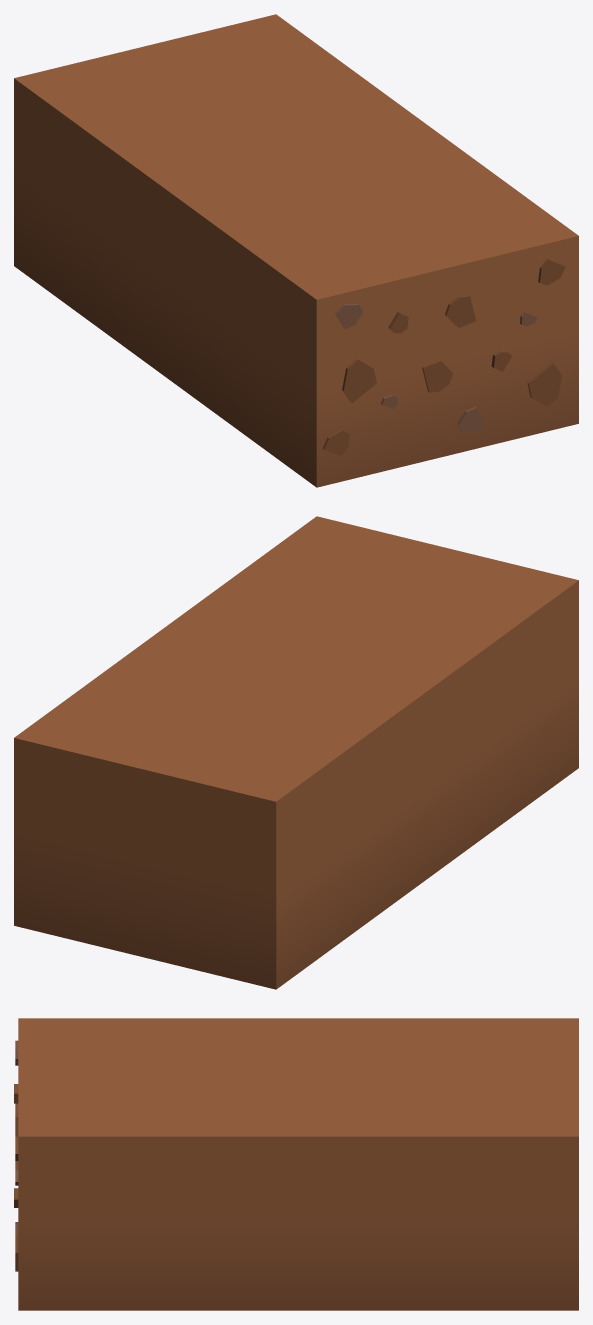
The model's file is underground_02.fbx.
3 renders of one model, top to bottom at view 1: azimuth 30°, elevation 25°; view 2: azimuth 150°, elevation 25°; view 3: azimuth 270°, elevation 25°, orthographic. The views are drawn at different scales.
Visible parts, largest first — view 1: underground_02; view 2: underground_02; view 3: underground_02.
Part boxes in pixels (left/top/right/bottom): underground_02: left=14, top=14, right=578, bottom=487; underground_02: left=14, top=516, right=578, bottom=989; underground_02: left=14, top=1018, right=578, bottom=1310.
Bounding box in the file's own units: 192 × 131 × 387.
